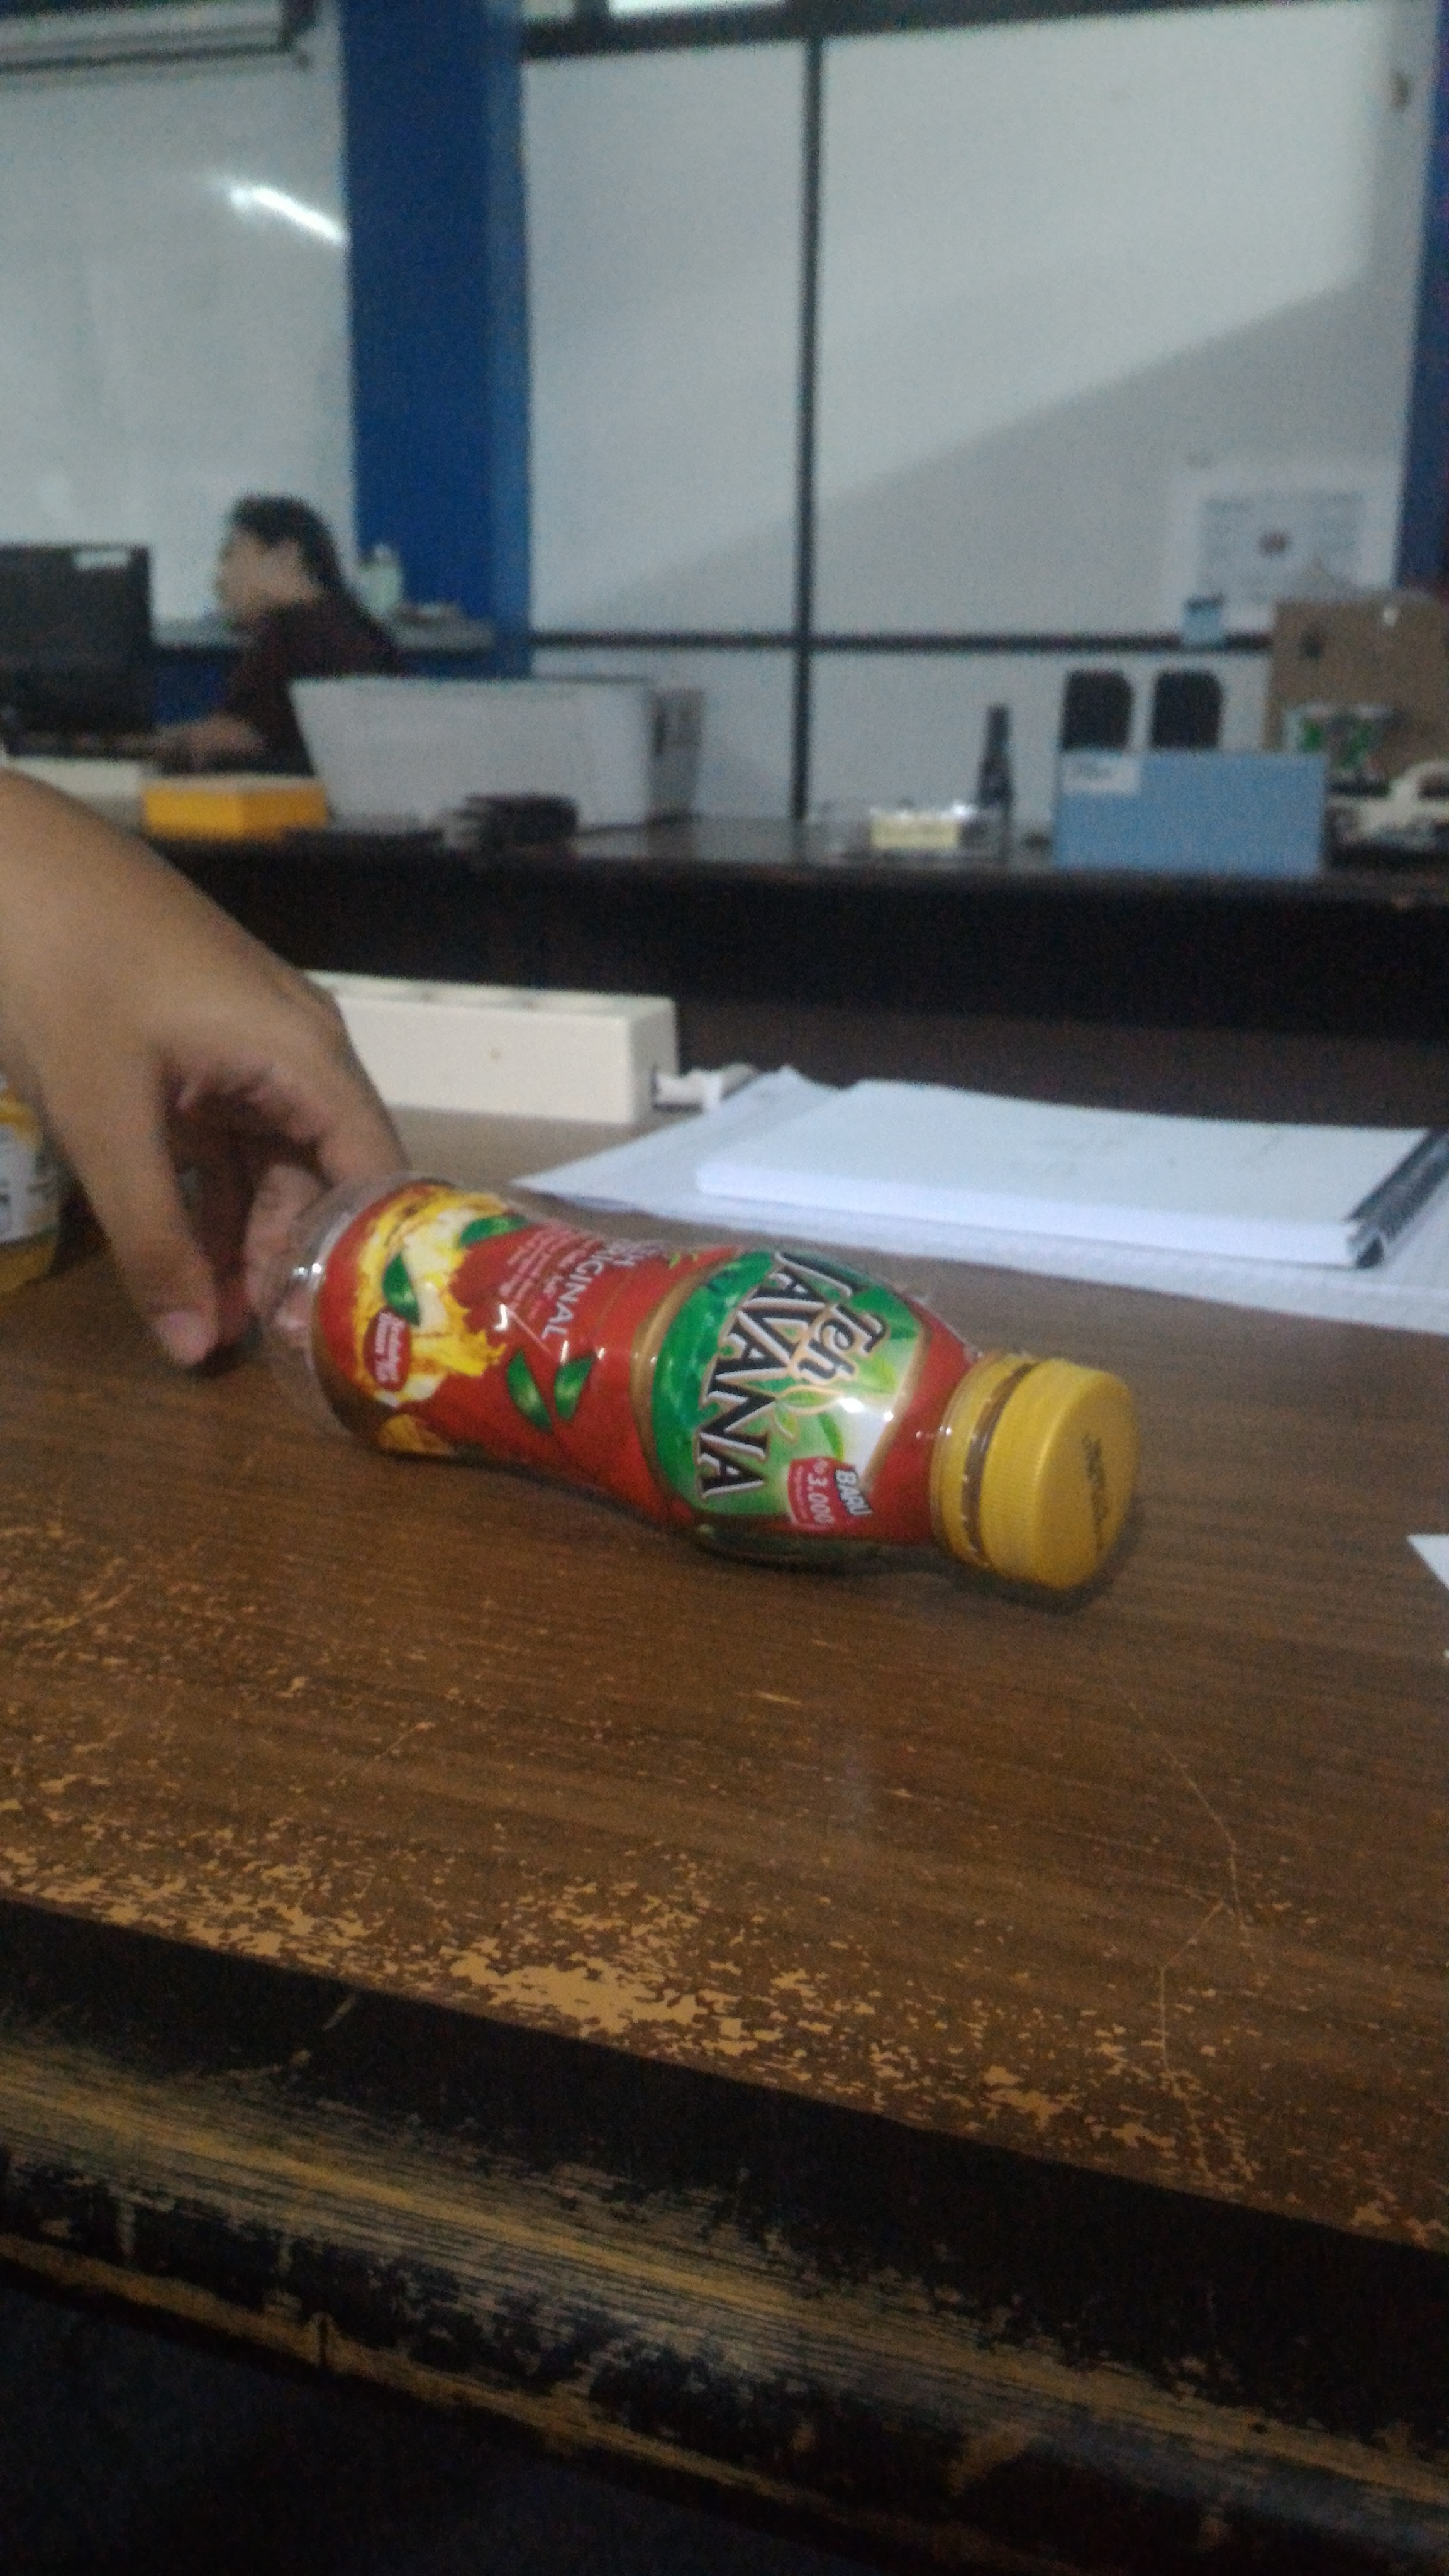botol: (267, 1150, 1139, 1589)
